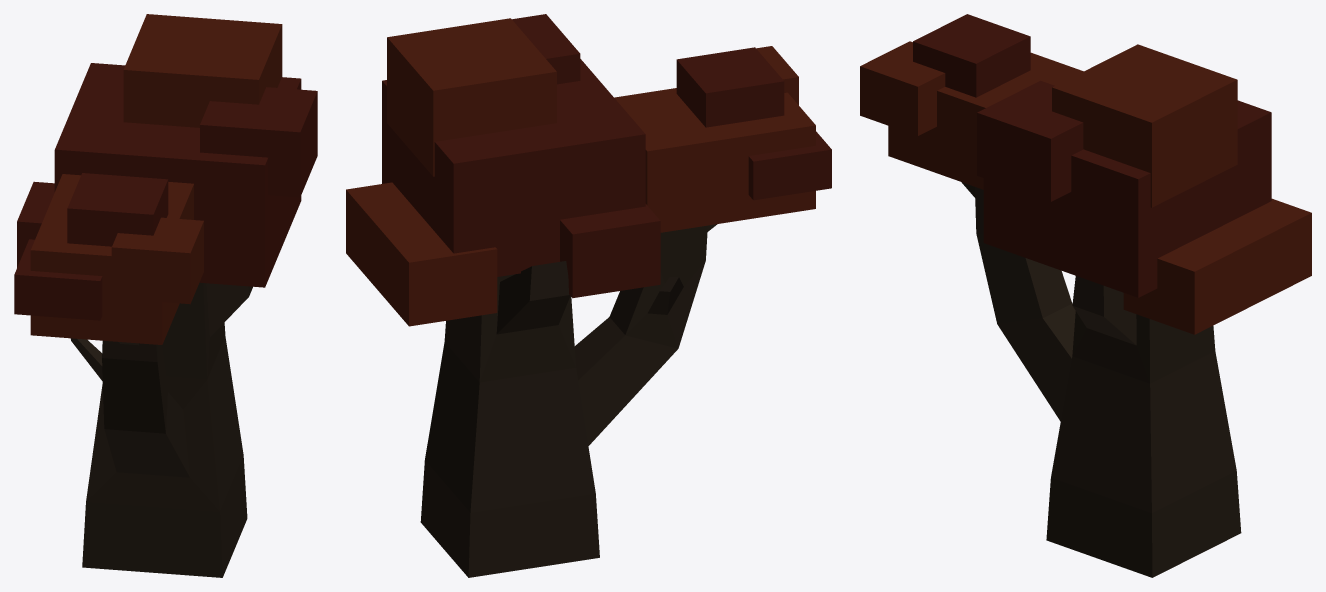
The model's file is tree2.FBX.
The picture shows the model from 3 angles, left to right: view 1: azimuth 30°, elevation 25°; view 2: azimuth 150°, elevation 25°; view 3: azimuth 270°, elevation 25°; orthographic projection. The views are drawn at different scales.
Visible parts, largest first — view 1: Box006, Box211, Box026, Box027, Box023, Box028, Box030, Box029, Box024; view 2: Box006, Box211, Box026, Box027, Box025, Box024, Box030, Box029, Box023, Box028; view 3: Box006, Box211, Box026, Box025, Box023, Box027, Box030, Box028.
Part boxes in pixels (<box>): Box006: <box>70,282,252,577</box>; Box211: <box>54,63,301,287</box>; Box026: <box>123,14,282,127</box>; Box027: <box>30,174,193,344</box>; Box023: <box>200,87,317,197</box>; Box028: <box>111,217,203,304</box>; Box030: <box>67,173,168,246</box>; Box029: <box>14,239,102,320</box>; Box024: <box>17,181,54,267</box>; Box006: <box>420,224,717,577</box>; Box211: <box>382,59,645,276</box>; Box026: <box>387,18,556,176</box>; Box027: <box>614,88,815,232</box>; Box025: <box>346,182,497,326</box>; Box024: <box>560,204,660,298</box>; Box030: <box>676,47,784,127</box>; Box029: <box>748,131,831,200</box>; Box023: <box>512,14,580,84</box>; Box028: <box>756,46,798,104</box>; Box006: <box>961,182,1241,577</box>; Box211: <box>983,100,1271,297</box>; Box026: <box>1052,44,1237,207</box>; Box025: <box>1123,198,1311,334</box>; Box023: <box>977,80,1083,201</box>; Box027: <box>888,52,1083,189</box>; Box030: <box>913,14,1030,97</box>; Box028: <box>860,41,945,135</box>.
Bounding box in the file's own units: 8.43 × 10.29 × 8.94.
